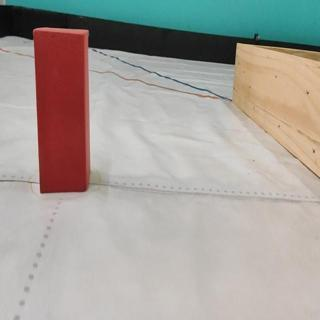redbox: (33, 26, 92, 195)
